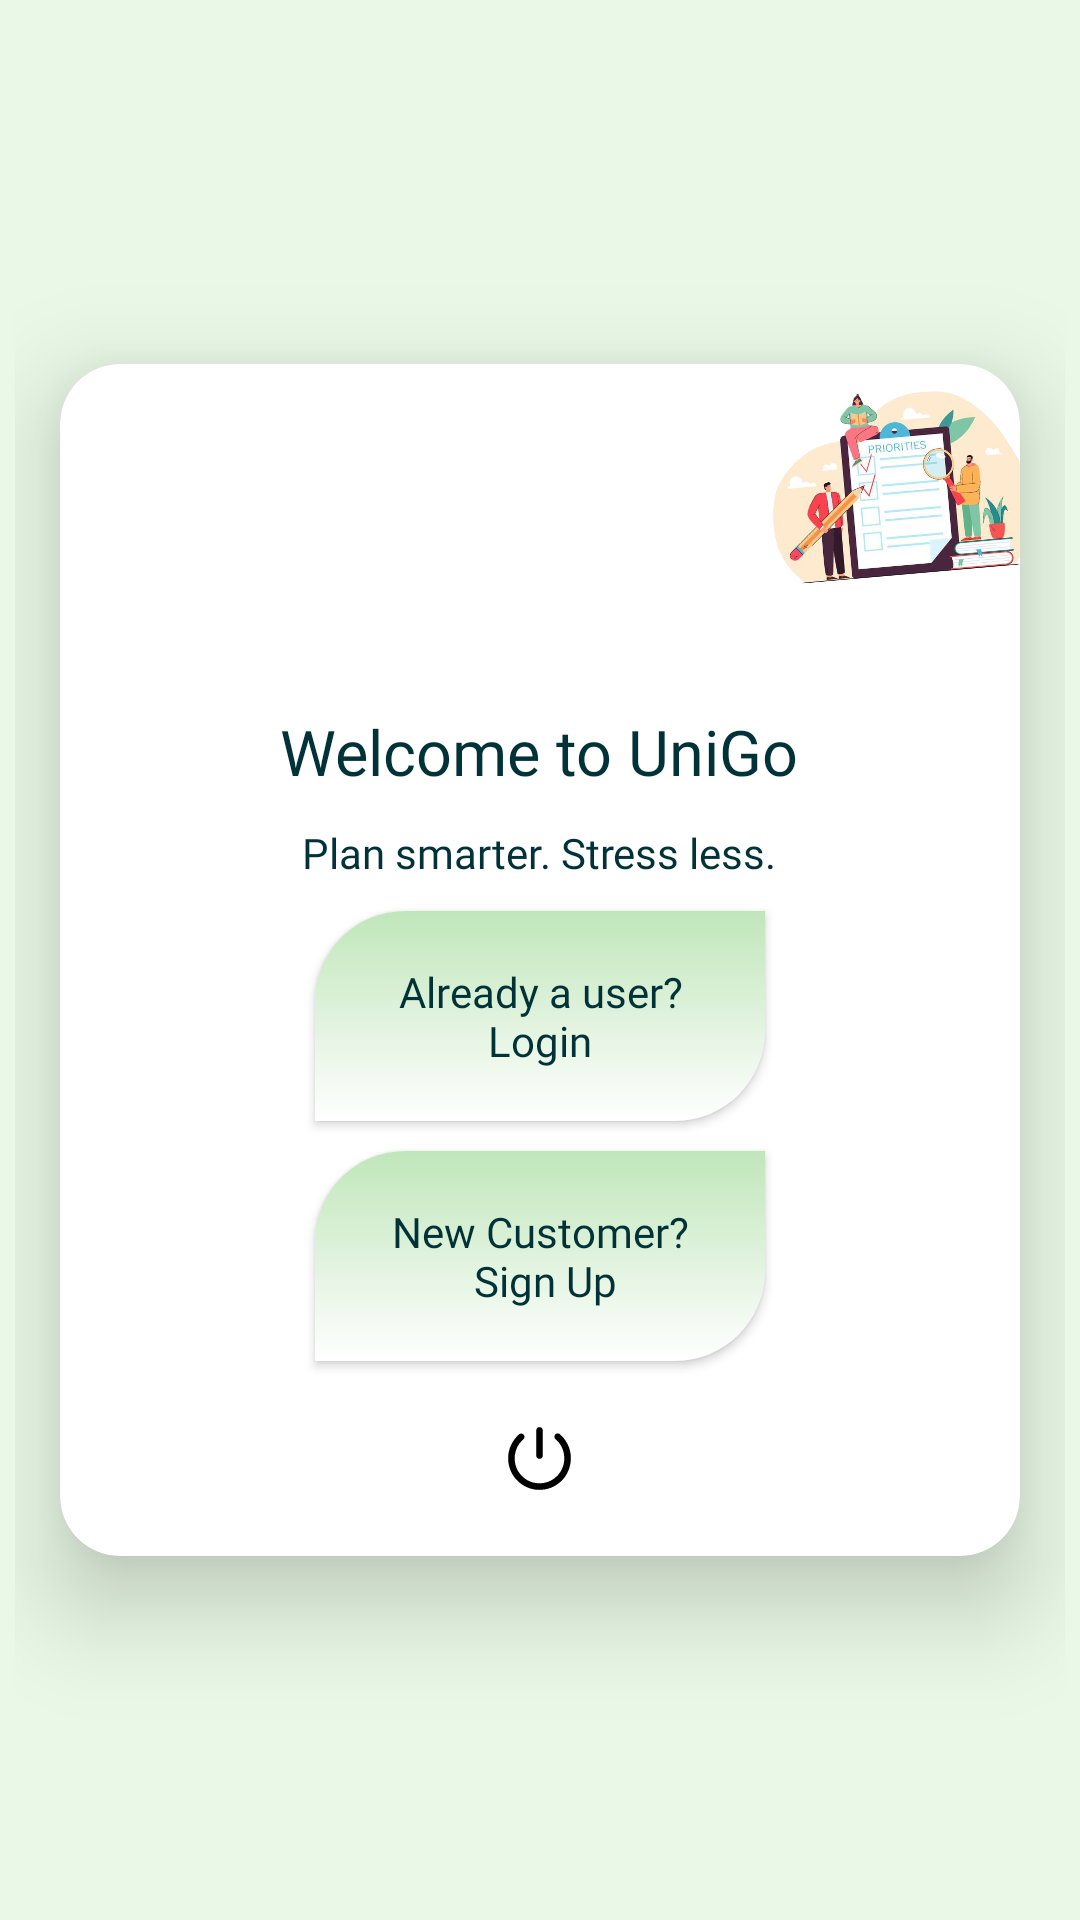

Screen size 1080px×1920px. Icon name, then its box in pixels as (x1, y1, x2, y2):
powerbtn: (508, 1427, 571, 1490)
